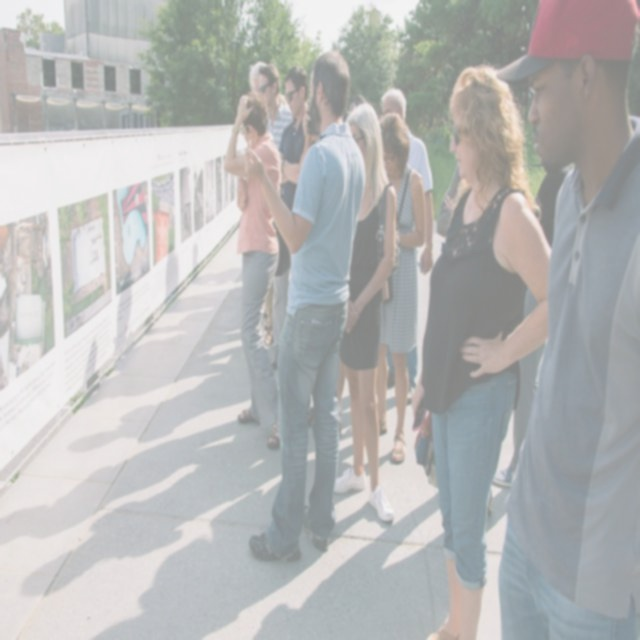pessoa: (0, 444, 507, 639), (410, 62, 554, 638), (240, 46, 368, 568), (62, 242, 256, 447), (326, 99, 399, 526), (492, 166, 570, 489), (220, 88, 286, 452), (487, 285, 566, 520), (375, 111, 427, 465), (380, 87, 434, 405), (276, 62, 314, 210), (532, 158, 576, 257), (433, 158, 478, 240), (256, 62, 294, 152), (330, 355, 346, 440), (260, 281, 276, 350), (332, 93, 366, 125), (246, 58, 264, 98)
